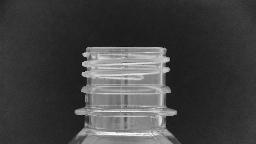No Cap: (68, 41, 182, 119)
